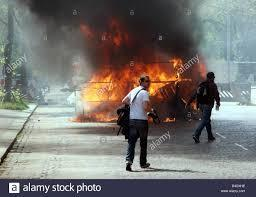fire: (76, 19, 207, 124)
